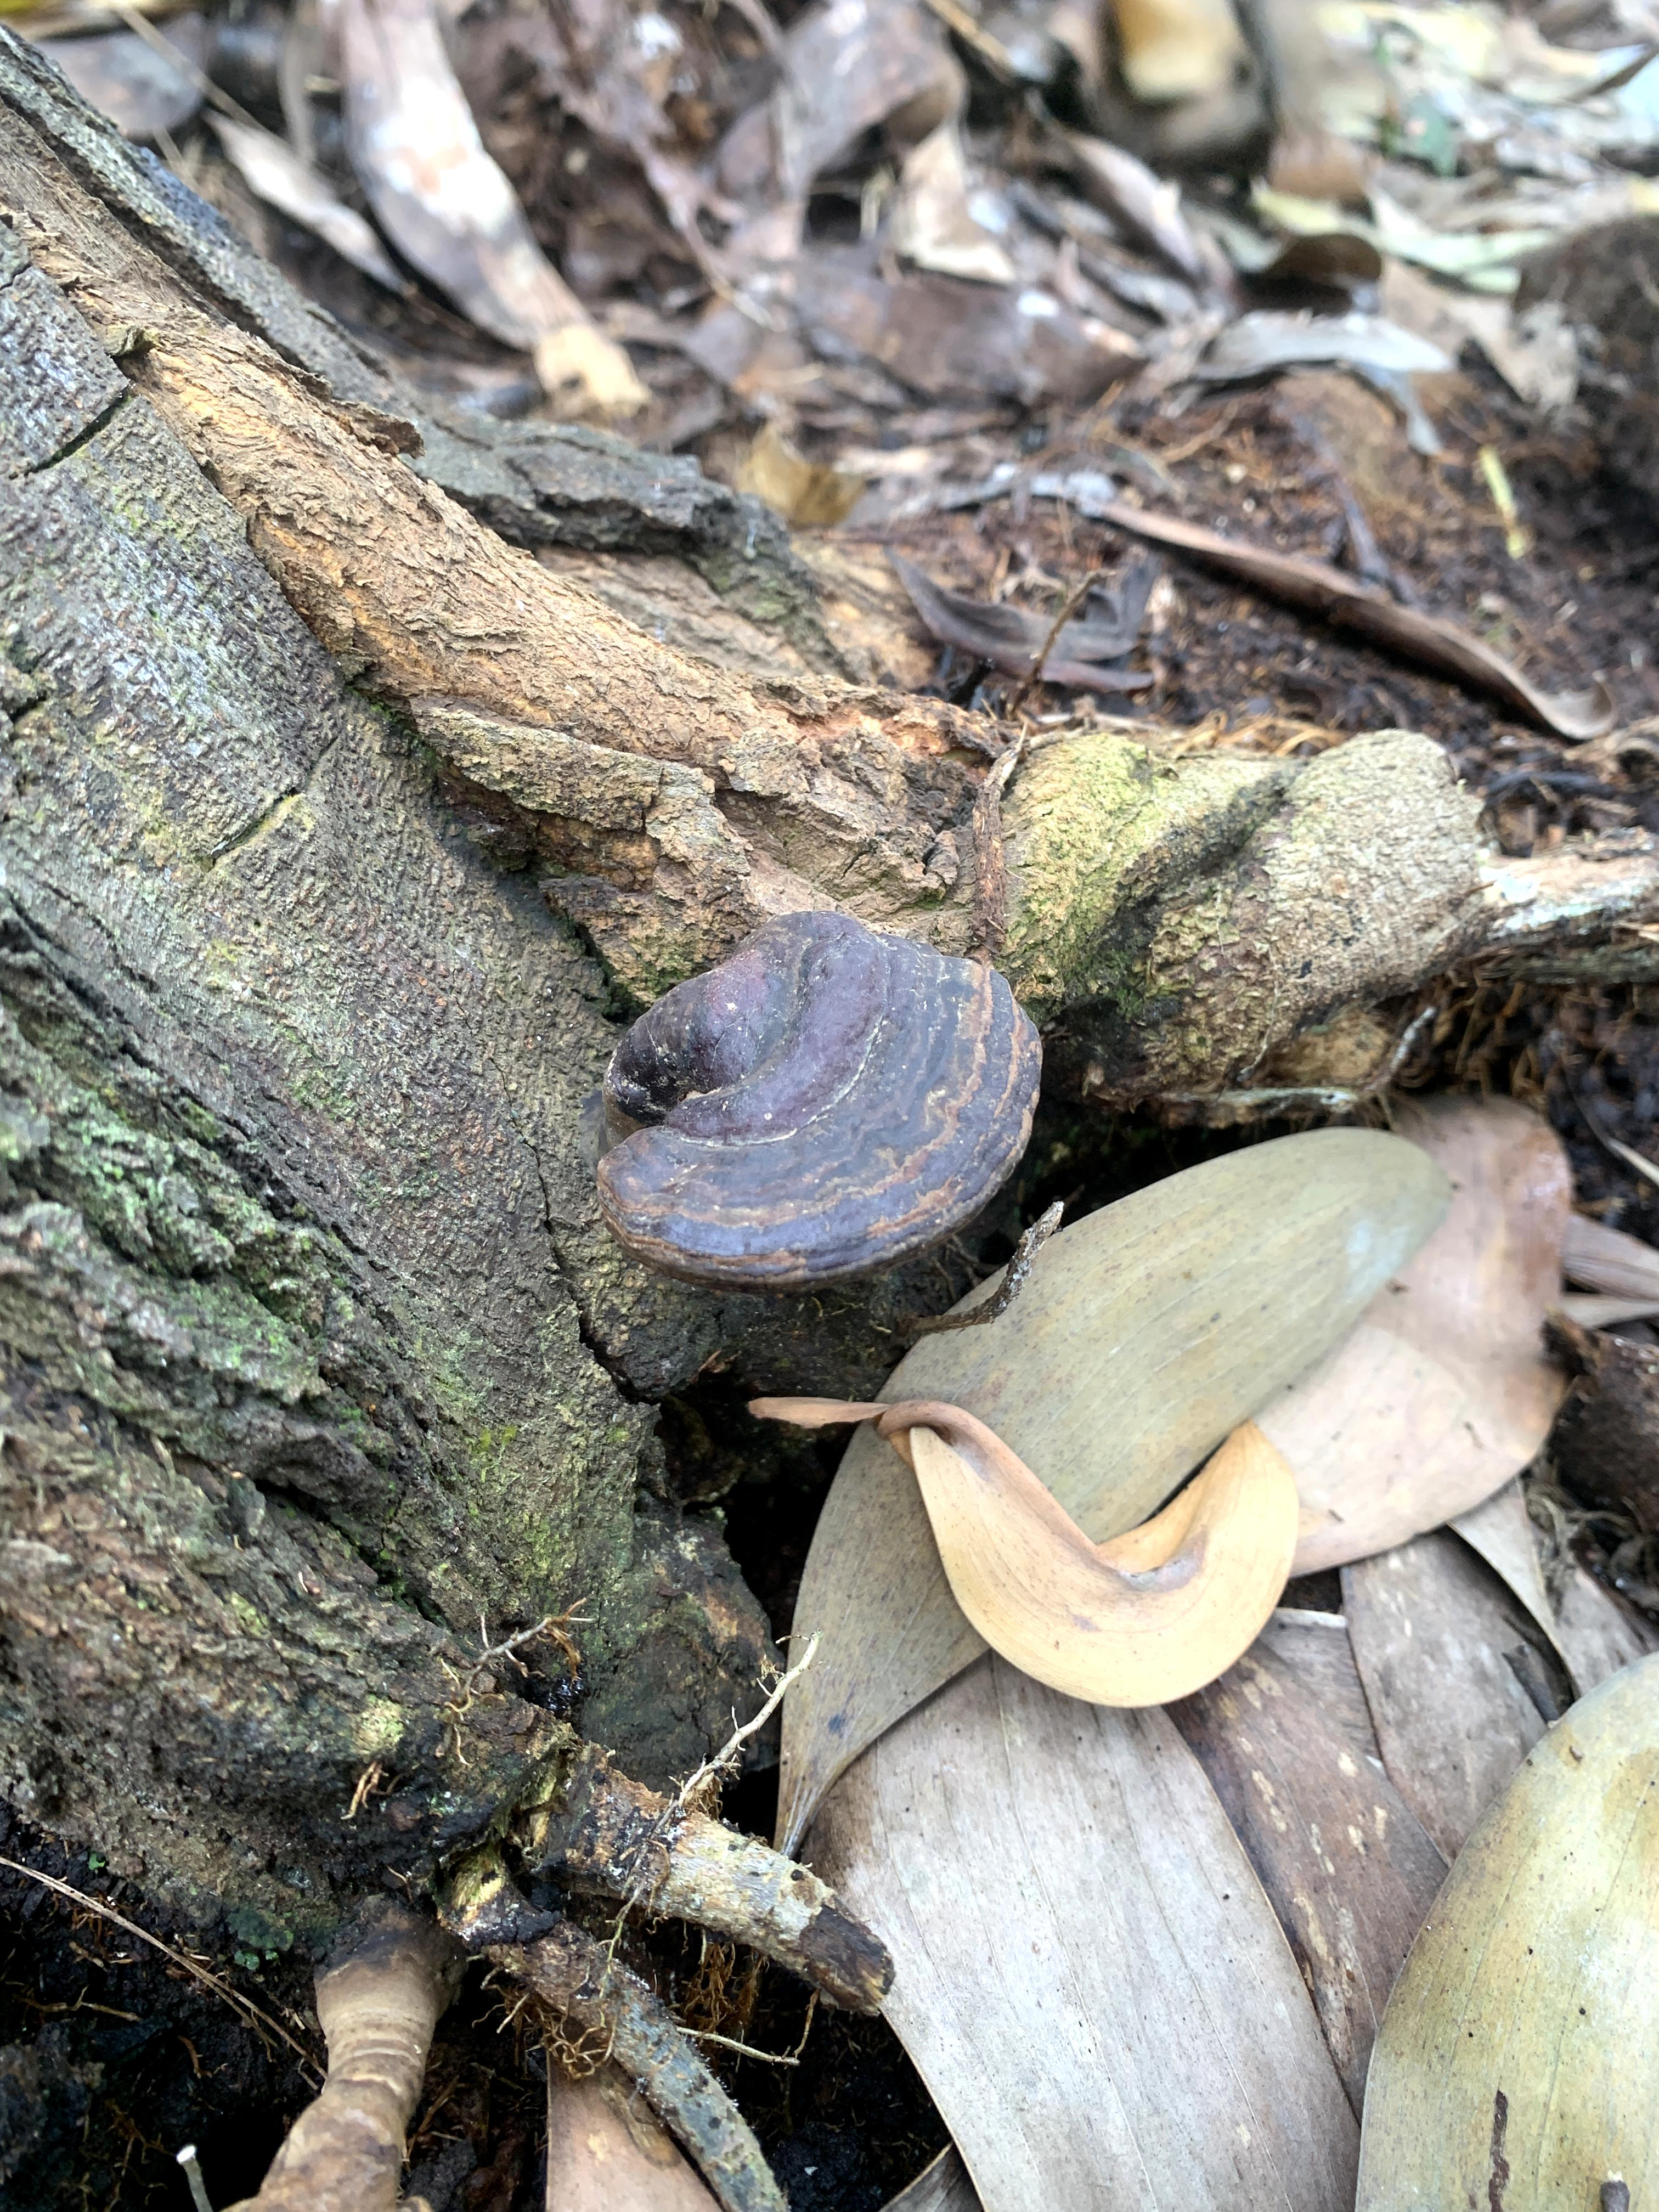Ganoderma - Fruit Body: (613, 880, 1103, 1320)
